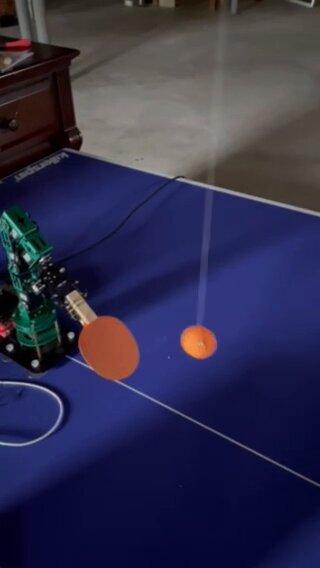oball: (183, 326, 212, 357)
